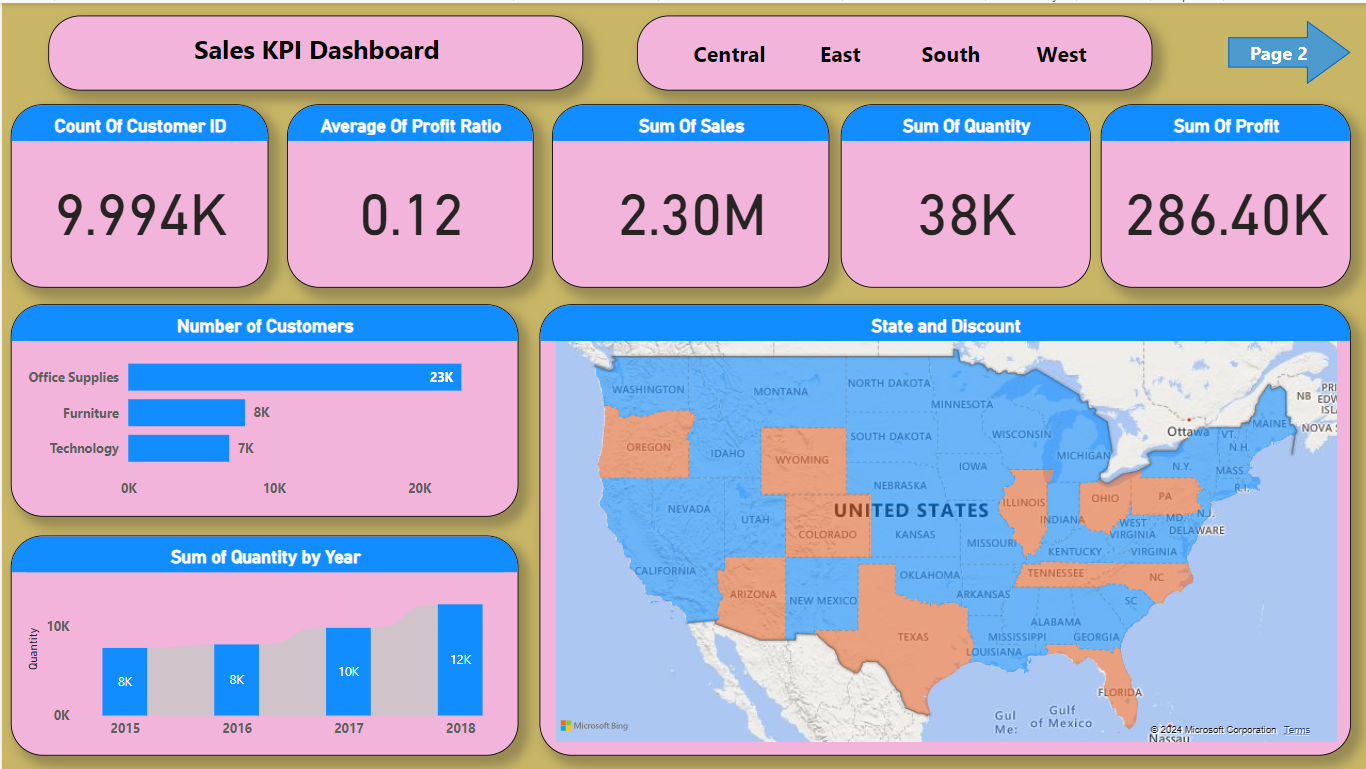

Layout of this report page (visuals, bound fields, positions):
{"tool":"powerbi","page":{"name":"Page 1","canvas":[1280,720],"ordinal":0},"visuals":[{"type":"card","title":"Count Of Customer ID","fields":{"Values":["CountNonNull(in.Customer ID)"]},"box":[8.2,94.9,241.4,172.3],"z":0},{"type":"card","title":"Average Of Profit Ratio","fields":{"Values":["Avg(in.Profit Ratio)"]},"box":[267.2,94.9,230.9,172.3],"z":1000},{"type":"card","title":"Sum Of Sales","fields":{"Values":["Sum(in.Sales)"]},"box":[515.6,94.9,260.2,172.3],"z":2000},{"type":"card","title":"Sum Of Quantity","fields":{"Values":["Sum(in.Quantity)"]},"box":[786.3,94.9,234.4,172.3],"z":3000},{"type":"card","title":"Sum Of Profit","fields":{"Values":["Sum(in.Profit)"]},"box":[1030.1,94.9,234.4,172.3],"z":4000},{"type":"barChart","title":"Number of Customers","fields":{"Category":["in.Category"],"Y":["Sum(in.Quantity)"]},"box":[8.2,282.4,475.8,199.2],"z":5000},{"type":"ribbonChart","fields":{"Y":["Sum(in.Quantity)"],"Category":["in.Year"]},"box":[8.3,498.7,476.1,206.6],"z":6000},{"type":"filledMap","fields":{"Category":["in.State"],"Series":["in.Discount"]},"box":[503.9,282.4,760.6,423.1],"z":7000},{"type":"textbox","box":[43.4,11.7,501.6,70.3],"z":8000},{"type":"slicer","title":"Region","fields":{"Values":["in.Region"]},"box":[595.3,11.7,482.8,70.3],"z":9000},{"type":"shape","box":[1149.6,16.4,114.8,59.8],"z":10000}]}

Visuals, with their boxes in screenshot pixels (x1, y1, x2, y2), scaled from the page's 1280x720 canvas onto the 1366x769 screenshot:
"Count Of Customer ID" card: Rect(9, 101, 266, 285)
"Average Of Profit Ratio" card: Rect(285, 101, 532, 285)
"Sum Of Sales" card: Rect(550, 101, 828, 285)
"Sum Of Quantity" card: Rect(839, 101, 1089, 285)
"Sum Of Profit" card: Rect(1099, 101, 1349, 285)
"Number of Customers" barChart: Rect(9, 302, 517, 514)
ribbonChart - Sum(in.Quantity) x in.Year: Rect(9, 533, 517, 753)
filledMap - in.State x in.Discount: Rect(538, 302, 1349, 754)
textbox: Rect(46, 12, 582, 88)
"Region" slicer: Rect(635, 12, 1151, 88)
shape: Rect(1227, 18, 1349, 81)
